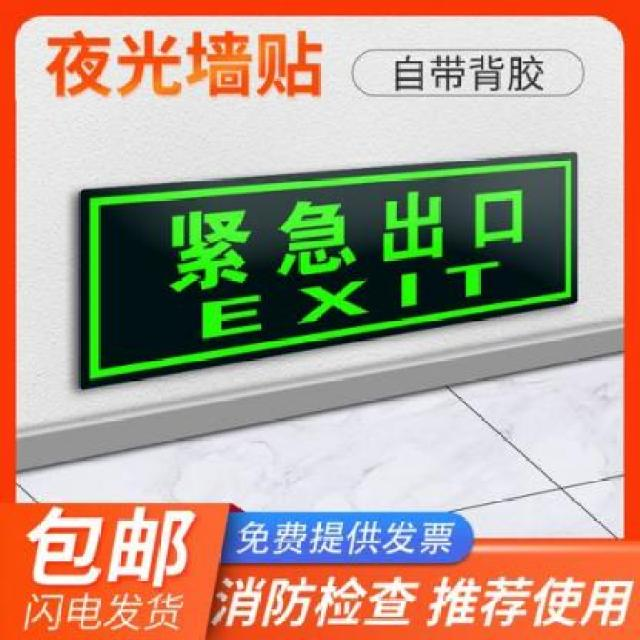exit_sign: (72, 171, 606, 347)
